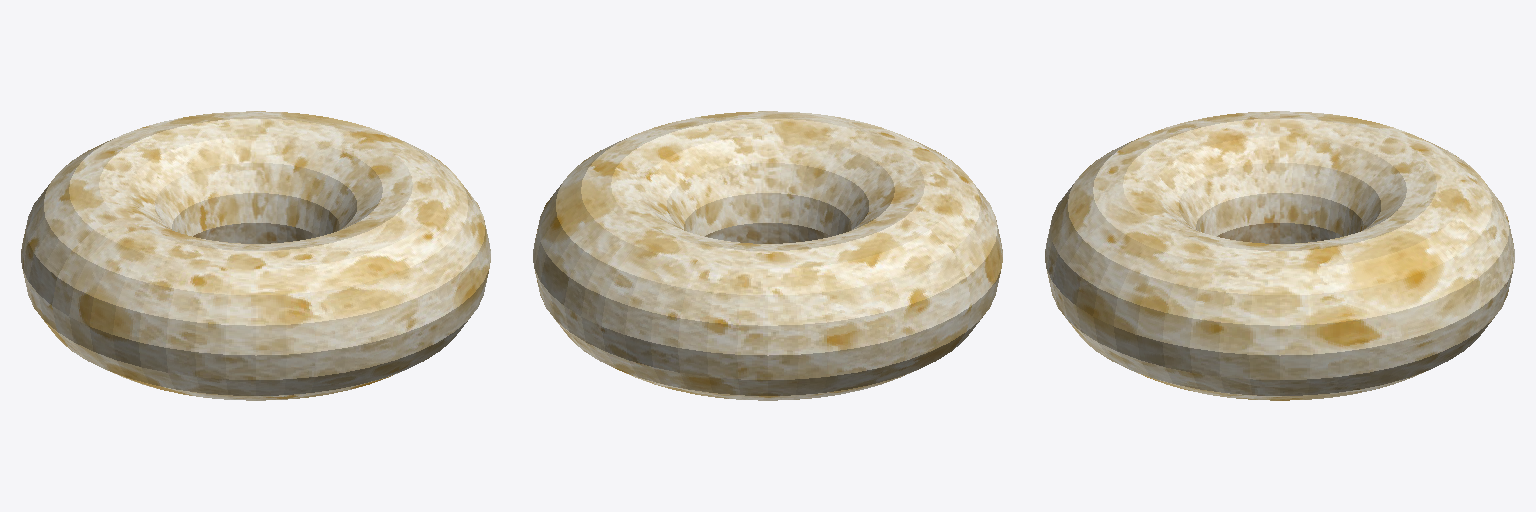
3 views of the same model, side by side, from view 1: azimuth 30°, elevation 25°; view 2: azimuth 150°, elevation 25°; view 3: azimuth 270°, elevation 25° (orthographic).
Parts seen in each view (by area): view 1: Torus; view 2: Torus; view 3: Torus.
Part boxes in pixels (left/top/right/bottom): Torus: left=21, top=111, right=490, bottom=400; Torus: left=533, top=111, right=1002, bottom=400; Torus: left=1045, top=111, right=1514, bottom=400.
Bounding box in the file's own units: 1.5 × 0.5 × 1.5.
Materials: 1 (1 with a texture image).